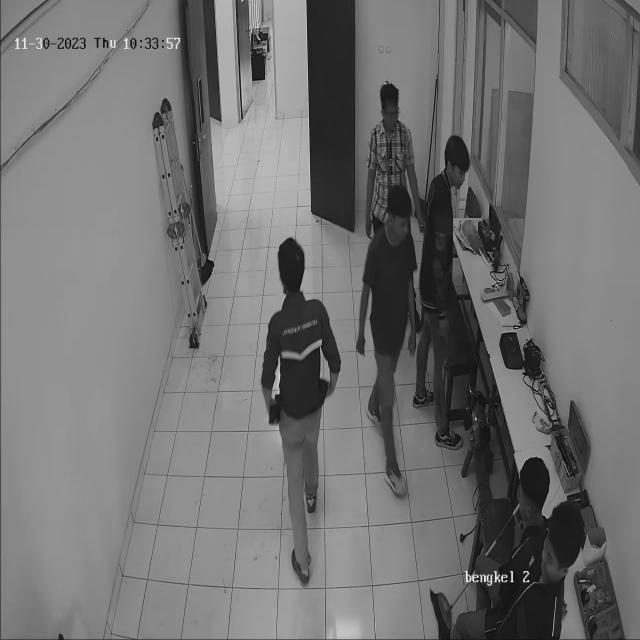person: (262, 228, 333, 594), (348, 190, 419, 500), (414, 119, 476, 437), (372, 72, 416, 294)
